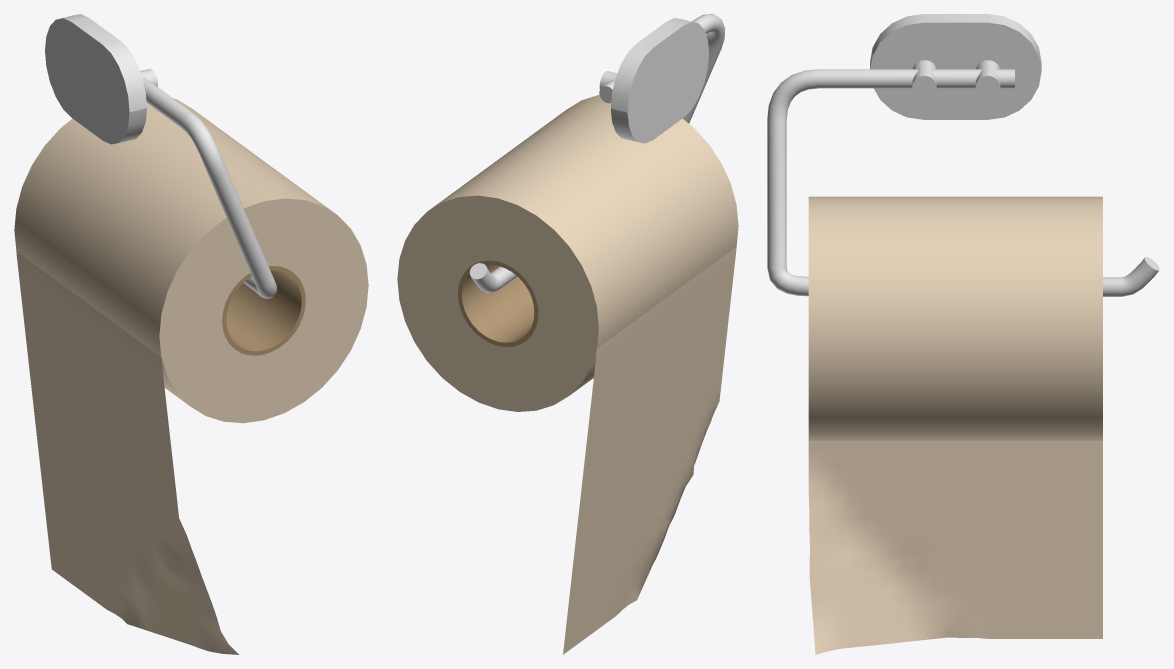
File: toiletpaper.fbx
3 renders of one model, left to right at view 1: azimuth 30°, elevation 25°; view 2: azimuth 150°, elevation 25°; view 3: azimuth 270°, elevation 25°, orthographic. The views are drawn at different scales.
Visible parts, largest first — view 1: vessapaperi, teline, hylsy; view 2: vessapaperi, teline, hylsy; view 3: vessapaperi, teline.
Boxes of the visible parts, bbox=[...] form: vessapaperi: bbox=[14, 98, 368, 654]; teline: bbox=[45, 14, 276, 298]; hylsy: bbox=[222, 266, 305, 355]; vessapaperi: bbox=[397, 94, 738, 654]; teline: bbox=[469, 14, 725, 292]; hylsy: bbox=[458, 260, 538, 346]; vessapaperi: bbox=[808, 196, 1102, 654]; teline: bbox=[767, 14, 1159, 296].
Bounding box in the file's own units: 0.1 × 0.273 × 0.1601.
